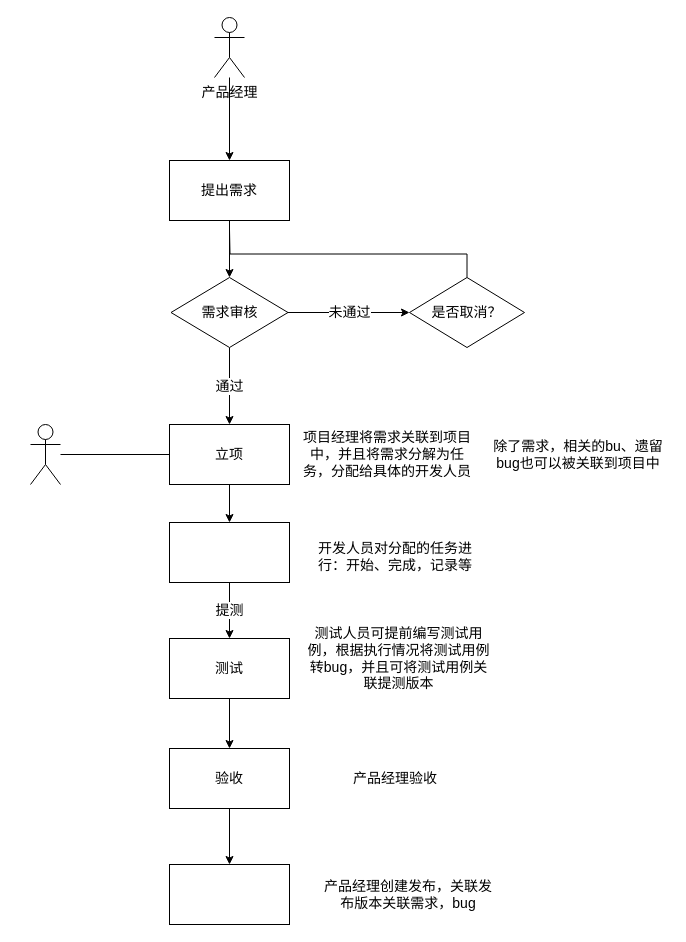
This 686x942 diagram has some shape labels left out. The centre of each missing label's shape, as x and y in pixels:
"发布" goes at [229,894].
"开发" goes at [229,552].
"项目经理" goes at [45,454].
